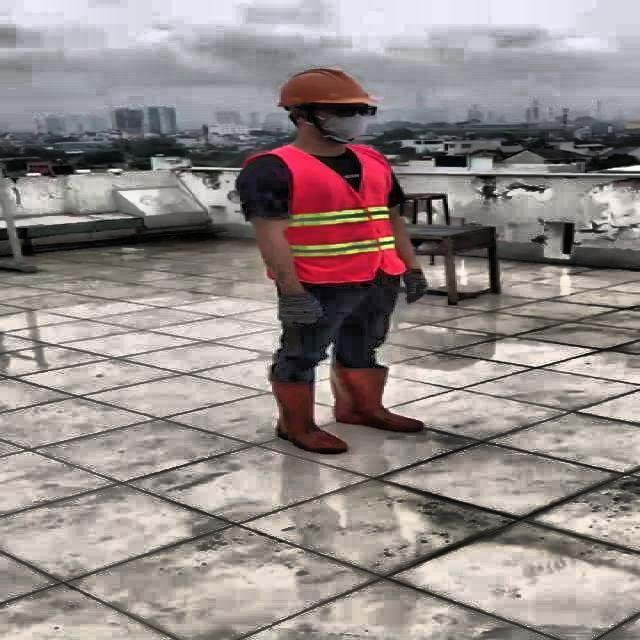safety_helmet: (275, 63, 380, 112)
safety_jacket: (256, 146, 402, 280)
